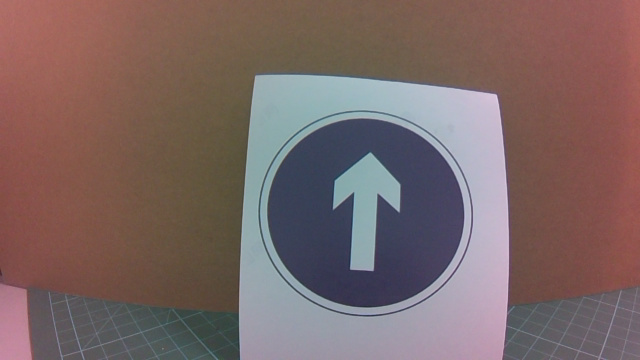forward: (299, 108, 465, 314)
